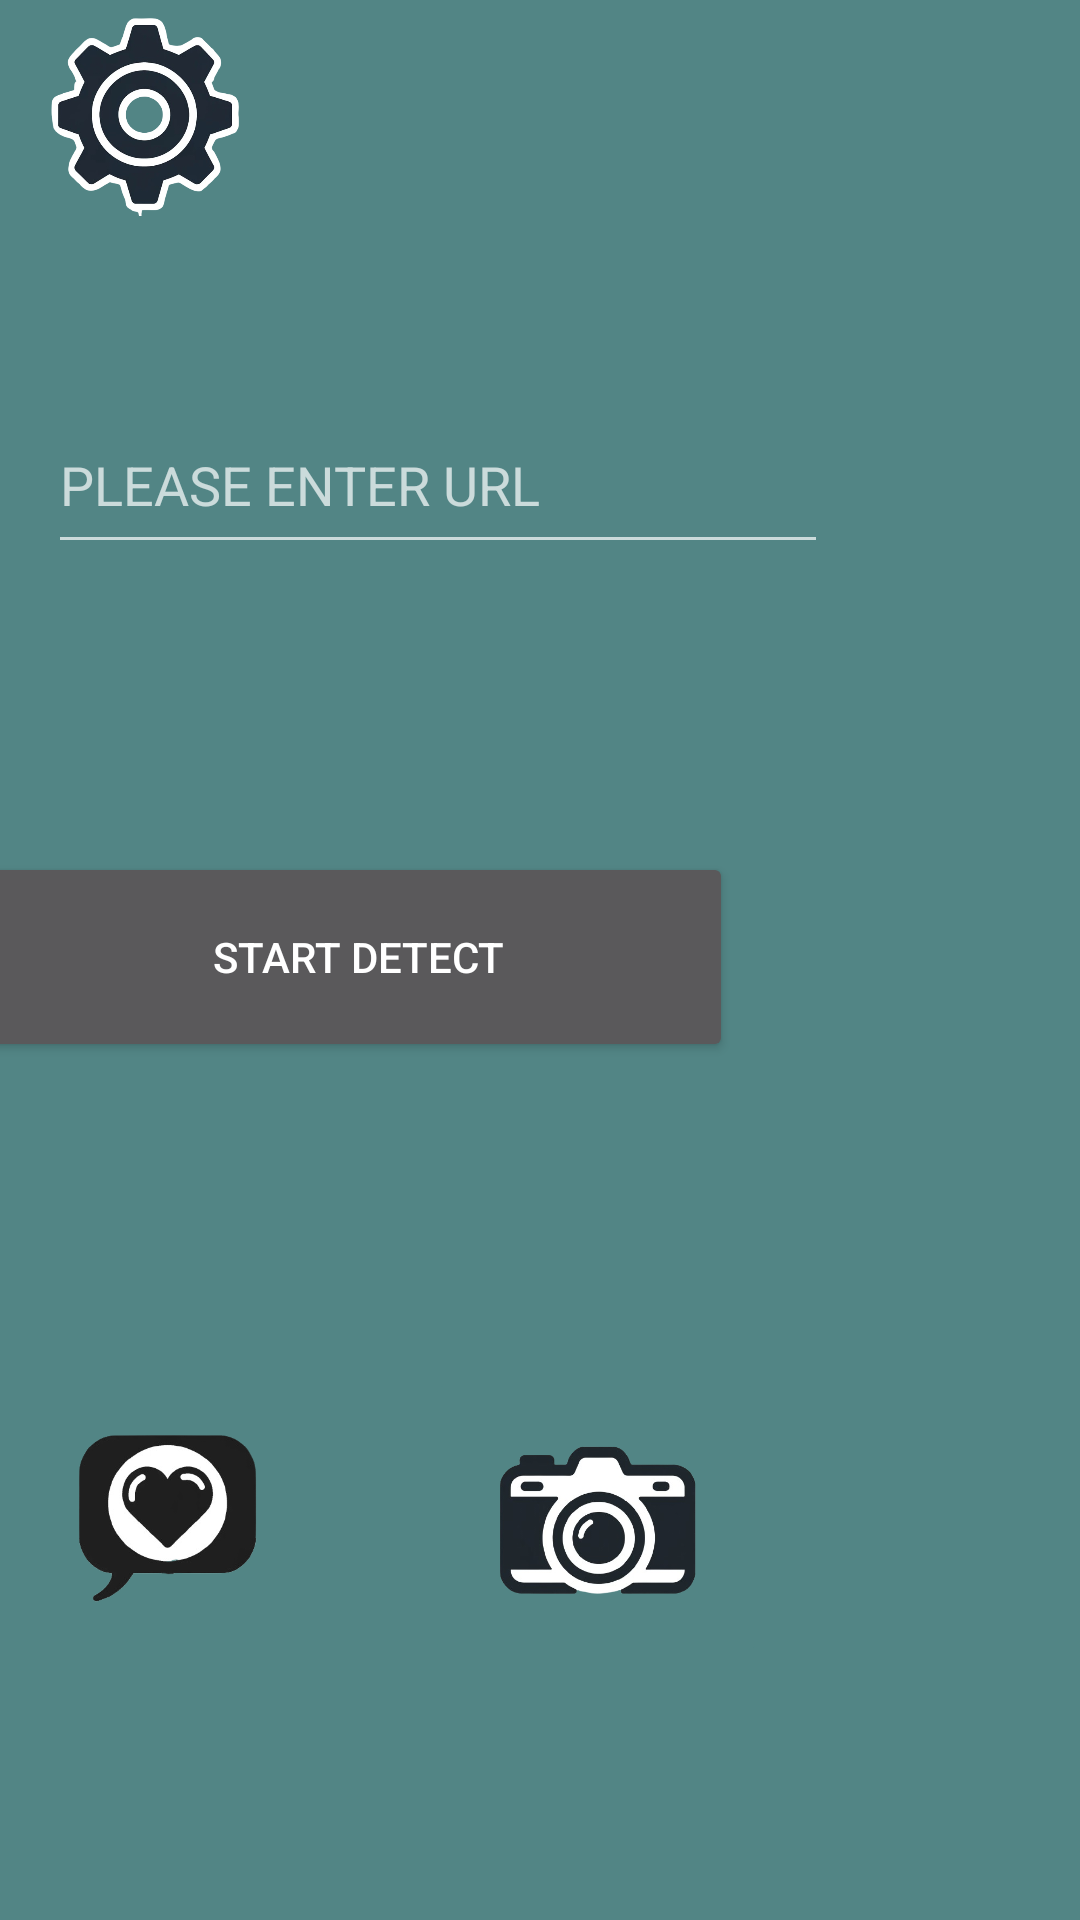

Where to tap for icons on this 1080px×1920px app screen, as point (x, y):
camera: point (597, 1520)
favorites: point (167, 1518)
settings: point (145, 117)
